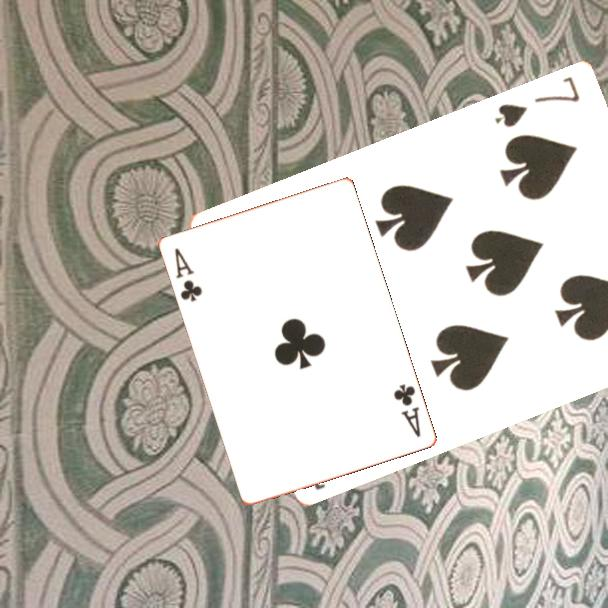c01: (171, 244, 205, 304), (390, 380, 423, 440)
s07: (491, 72, 583, 130)
